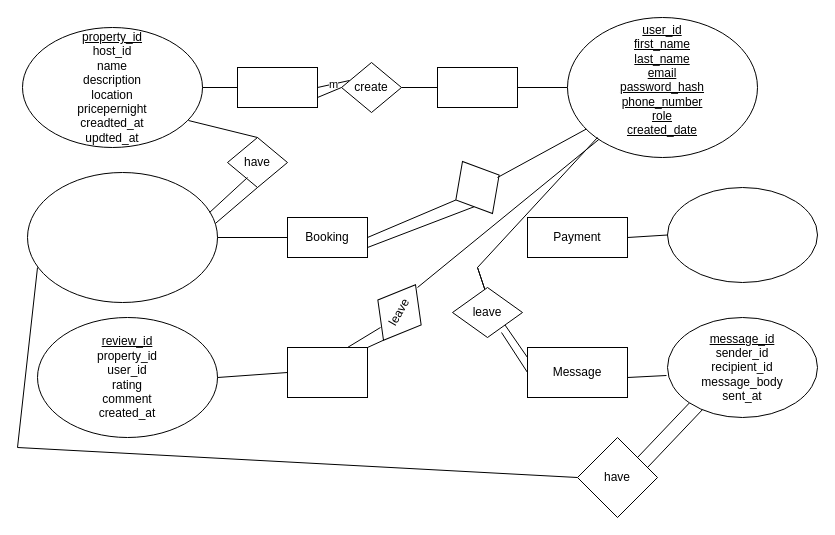
This 835x535 diagram has some shape labels left out. The centre of each missing label's shape, as x and y in pixels:
"booking_id property_id user_id start_date end_date total_price status created_at" belongs at (x=122, y=237).
"guest" belongs at (x=477, y=187).
"payment_id booking_id amount payment_date payment_method" belongs at (x=742, y=234).
"Property" belongs at (x=277, y=87).
"Review" belongs at (x=327, y=372).
"User" belongs at (x=477, y=87).
